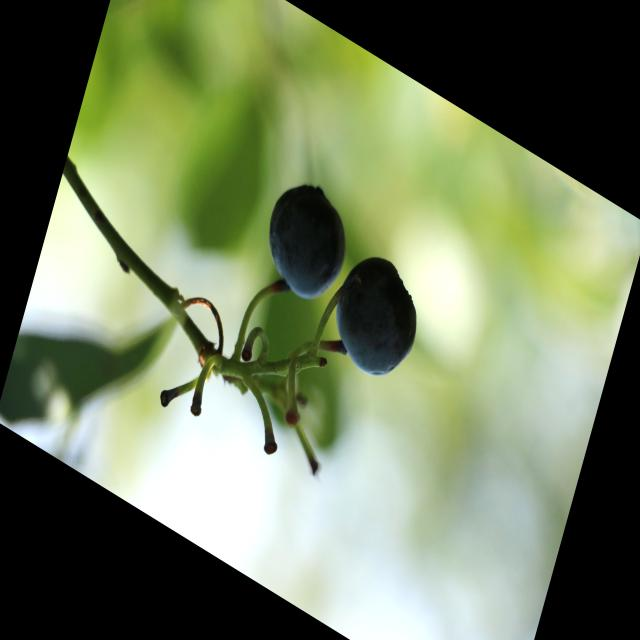blueberry: (321, 234, 434, 398), (253, 157, 364, 320)
